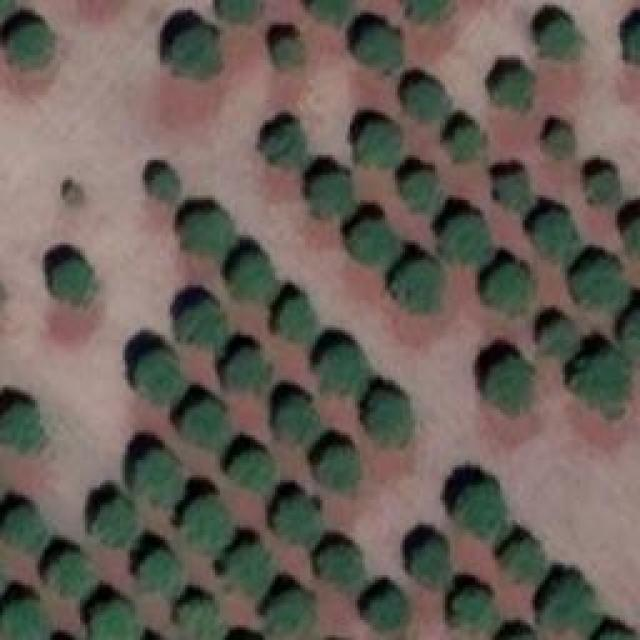Tree: (445, 467, 505, 535), (575, 348, 633, 413), (178, 203, 233, 263), (313, 342, 368, 400), (565, 255, 623, 310), (133, 345, 186, 405), (365, 383, 415, 446), (40, 245, 93, 303), (268, 485, 323, 540), (390, 255, 443, 310), (270, 580, 320, 638), (545, 570, 595, 628), (0, 388, 48, 448), (220, 538, 273, 591), (447, 582, 495, 640), (490, 530, 540, 585), (403, 528, 446, 588), (482, 263, 530, 316), (440, 213, 490, 263), (345, 215, 395, 265), (5, 18, 55, 68), (483, 358, 528, 413), (228, 255, 278, 303), (532, 208, 580, 258), (315, 535, 360, 588), (360, 578, 403, 633), (132, 450, 180, 498), (175, 300, 225, 345), (263, 120, 308, 170), (92, 500, 140, 545), (0, 597, 50, 640), (43, 550, 93, 593), (535, 310, 578, 360), (310, 173, 353, 223), (190, 495, 230, 548), (358, 125, 401, 173), (173, 30, 216, 78), (225, 340, 265, 388), (273, 397, 313, 445), (318, 442, 358, 490), (358, 25, 398, 73), (405, 83, 453, 123), (490, 68, 538, 108), (3, 505, 46, 548), (89, 597, 132, 640), (228, 450, 271, 493), (582, 157, 620, 205), (175, 590, 215, 635), (538, 18, 578, 63), (275, 298, 315, 341), (612, 200, 640, 260), (617, 302, 640, 375), (438, 122, 481, 160), (270, 30, 310, 68), (140, 543, 173, 588), (188, 400, 228, 435), (495, 170, 528, 210), (145, 160, 178, 198), (407, 168, 435, 208), (545, 120, 573, 155), (625, 20, 640, 68), (60, 177, 83, 205)
